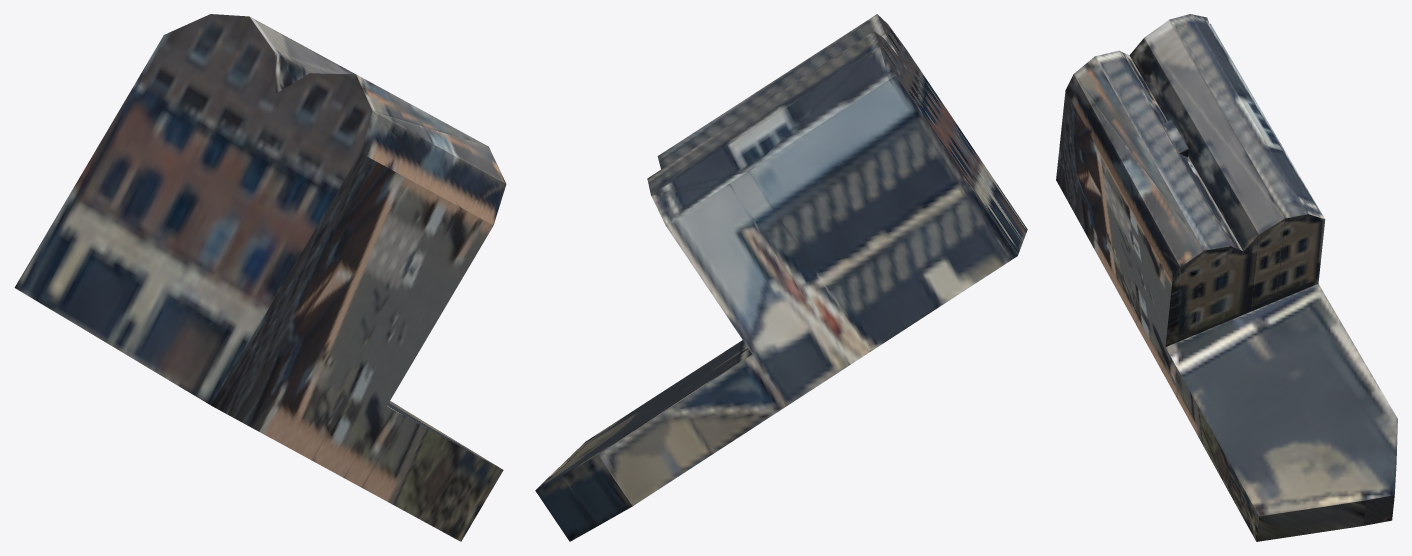
3 renders of one model, left to right at view 1: azimuth 30°, elevation 25°; view 2: azimuth 150°, elevation 25°; view 3: azimuth 270°, elevation 25°, orthographic. The views are drawn at different scales.
Parts seen in each view (by area): view 1: BAG_0599100000656917 (×7); view 2: BAG_0599100000656917 (×6); view 3: BAG_0599100000656917 (×9).
Part boxes in pixels (bbox=[...]): BAG_0599100000656917 (×7): bbox=[14, 14, 506, 541]; BAG_0599100000656917 (×6): bbox=[535, 14, 1027, 541]; BAG_0599100000656917 (×9): bbox=[1056, 14, 1397, 541].
Size of the model in its own units: 23.74 by 27.16 by 19.5.
10 materials, 9 textured.
